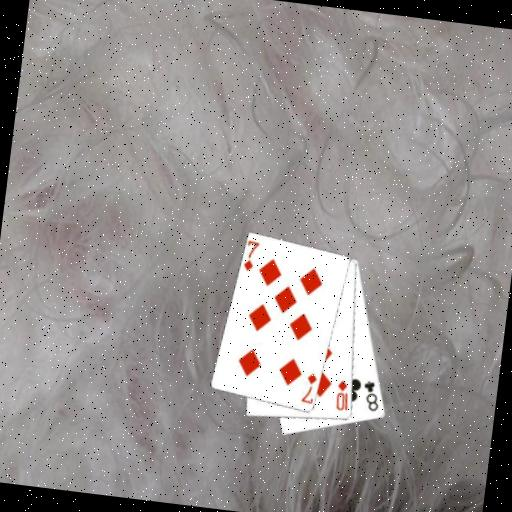10D: (332, 377, 353, 414)
7D: (299, 369, 320, 406), (241, 238, 262, 275)
8C: (359, 378, 384, 414)
